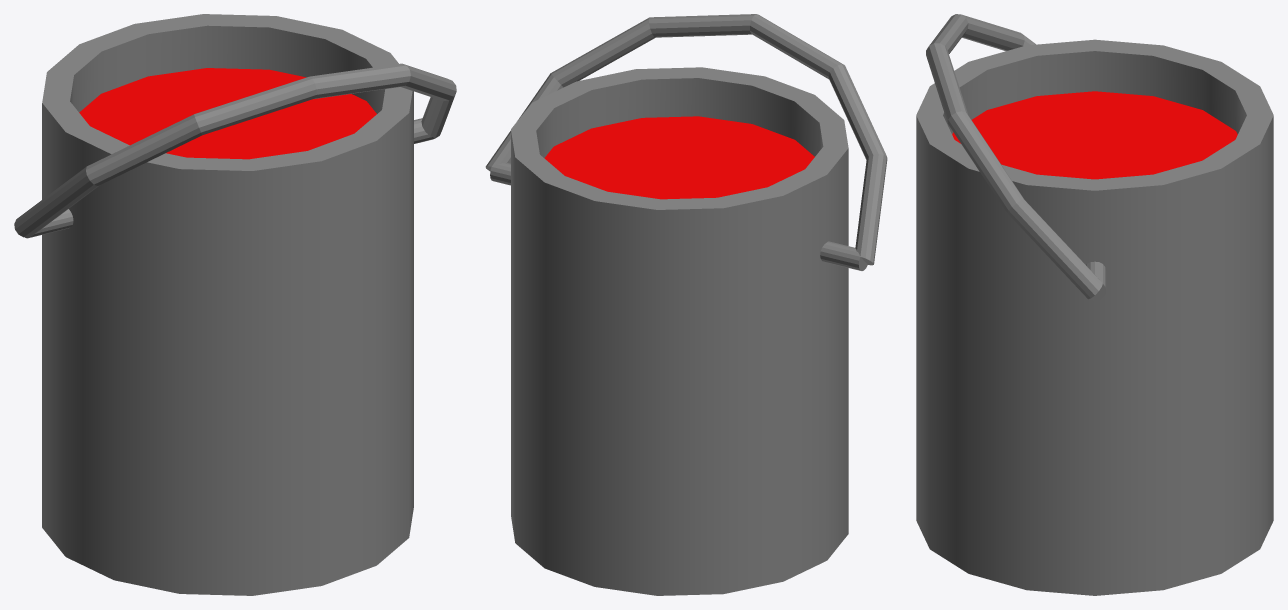
Rendered from Paint.fbx.
3 renders of one model, left to right at view 1: azimuth 30°, elevation 25°; view 2: azimuth 150°, elevation 25°; view 3: azimuth 270°, elevation 25°, orthographic. The views are drawn at different scales.
Parts seen in each view (by area): view 1: Paint; view 2: Paint; view 3: Paint.
Boxes of the visible parts, x1,y1,x2,y2 form: Paint: [14, 14, 456, 595]; Paint: [485, 14, 887, 595]; Paint: [916, 14, 1273, 595].
Bounding box in the file's own units: 525 × 589 × 400.
